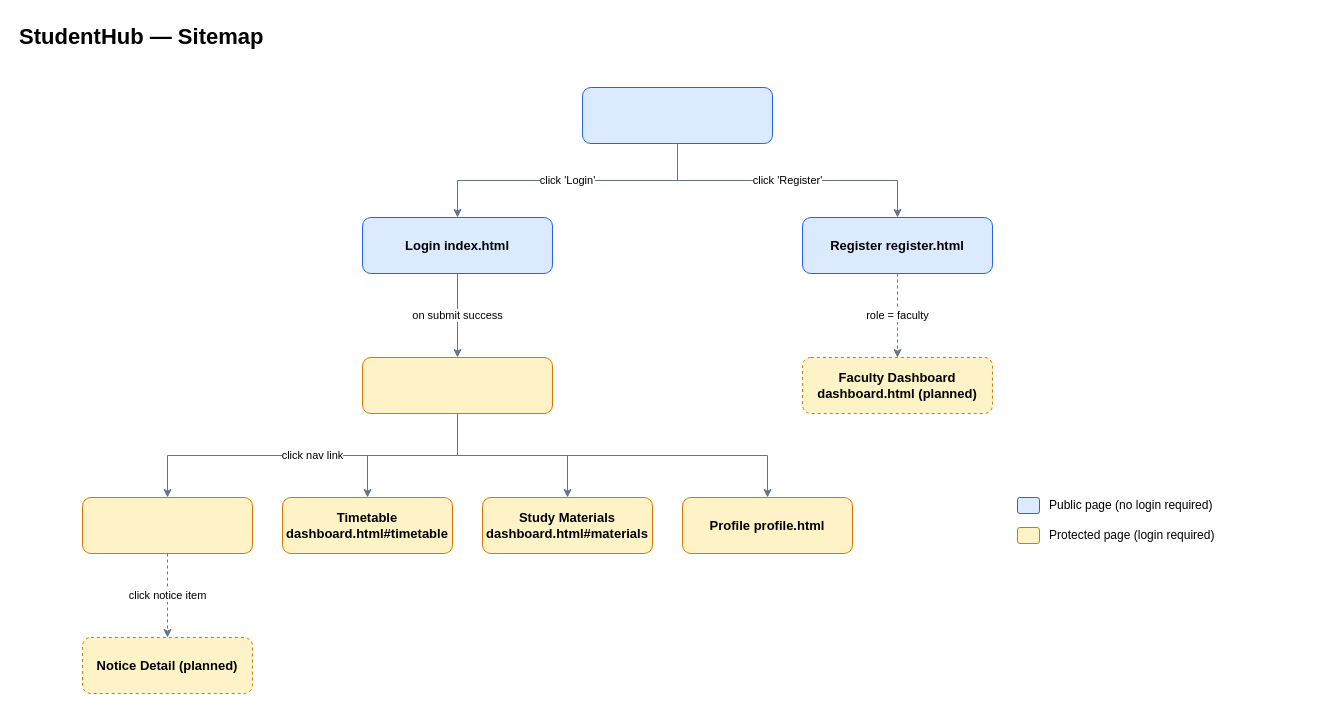
Some shapes in this 1324 by 711 pixel diagram are drawn without their labels. The shapes that lost their labels are listed below. From the top down, each one's centre as x and y in pixels, then its label:
At point 677,115: "Home home.html".
At point 457,385: "Student Dashboard dashboard.html".
At point 167,525: "Notice Board dashboard.html#notices".
